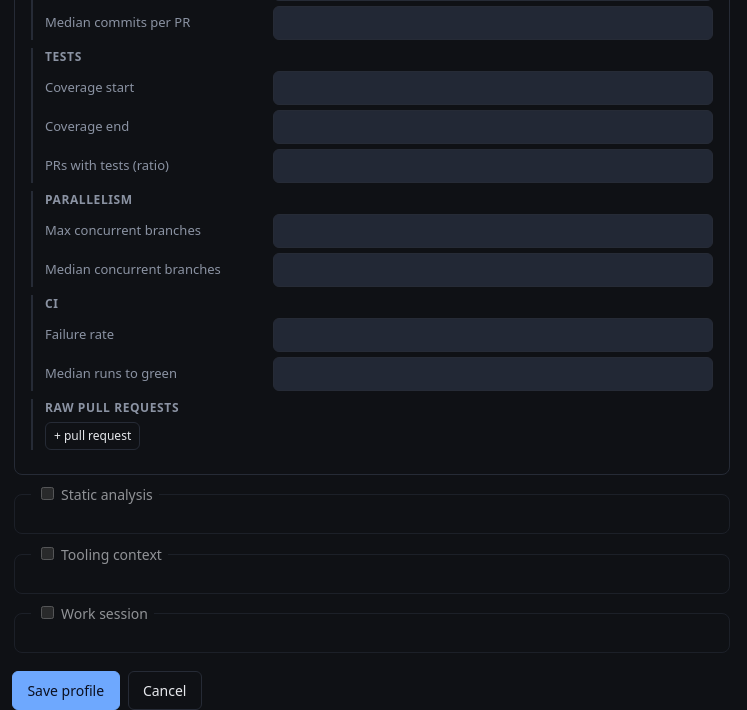
Scenario: ProfileForm › blocks the save and shows a local issue on a partial size distribution
(page scrolled)
Click the button "Save profile". click: [66, 690]
box: [12,671,120,709]
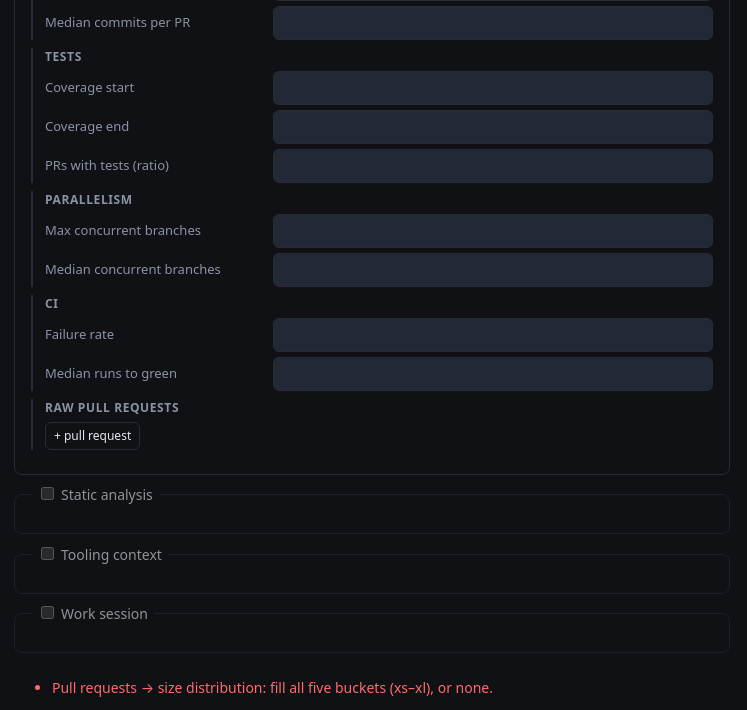
Expected: the list item "fill all five buckets" is shown, [52,678,493,697]
